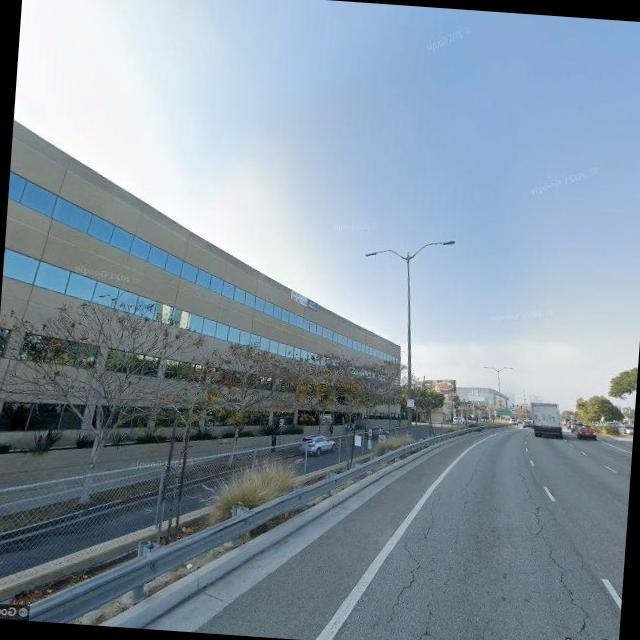pothole: (508, 471, 606, 640), (384, 492, 450, 640)
